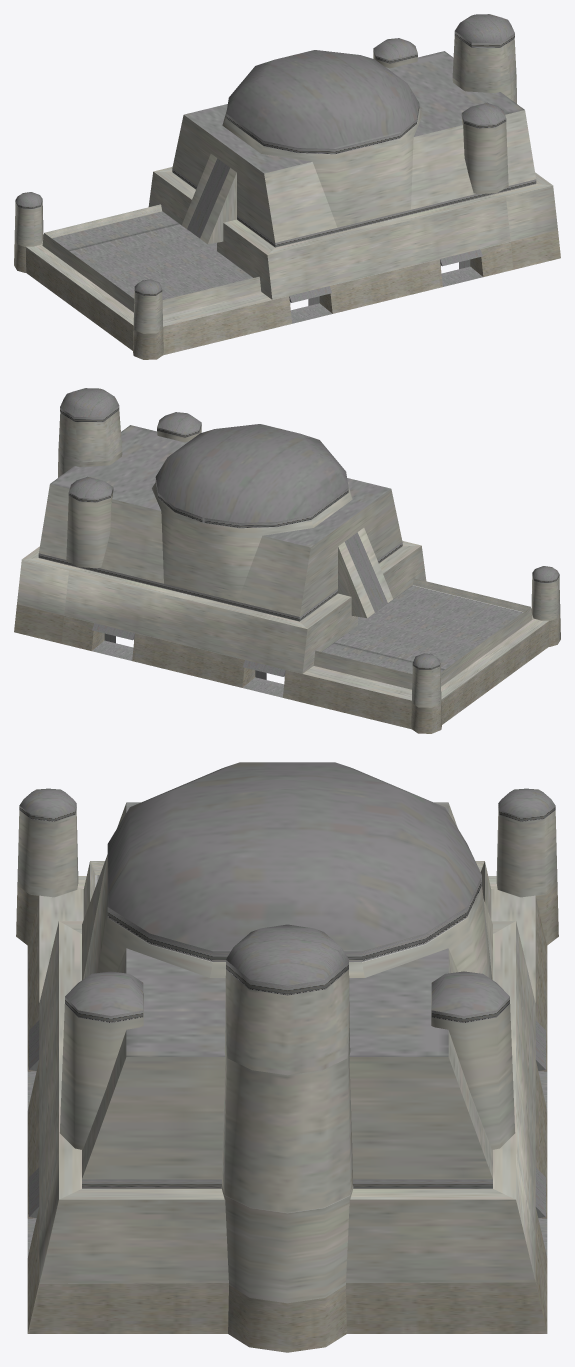
The model's file is mun_all_hospital_s01_r0_mesh_l2.fbx.
3 renders of one model, top to bottom at view 1: azimuth 30°, elevation 25°; view 2: azimuth 150°, elevation 25°; view 3: azimuth 270°, elevation 25°, orthographic. The views are drawn at different scales.
Visible parts, largest first — view 1: mesh_node; view 2: mesh_node; view 3: mesh_node.
Boxes of the visible parts, bbox=[...] form: mesh_node: bbox=[14, 14, 560, 359]; mesh_node: bbox=[14, 388, 560, 733]; mesh_node: bbox=[16, 762, 558, 1352].
Bounding box in the file's own units: 97.78 × 41.29 × 52.24.
